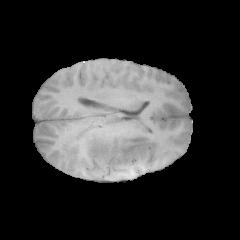glioma: (62, 111, 149, 169)
